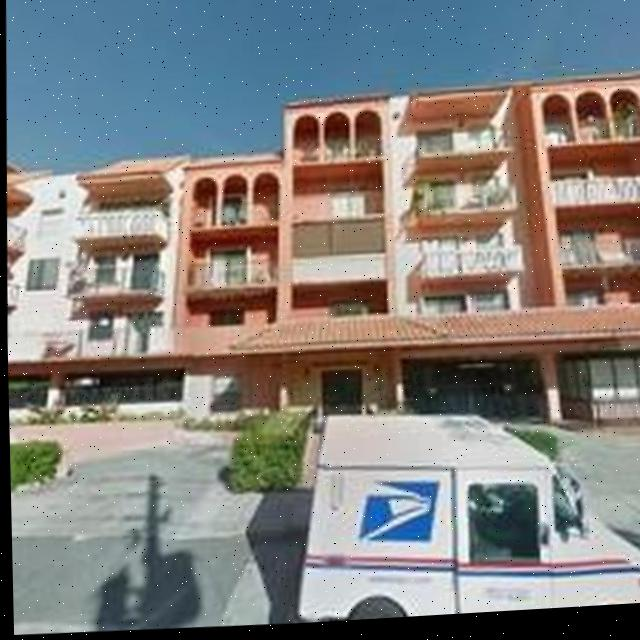building: (2, 58, 640, 455)
